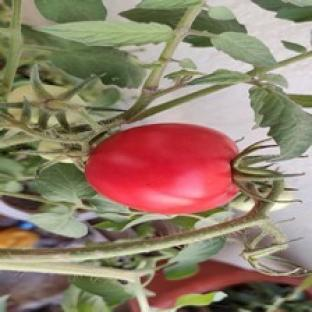Tomato: (85, 123, 238, 214), (147, 261, 302, 310), (9, 84, 45, 107), (38, 141, 72, 162), (271, 191, 293, 210)
